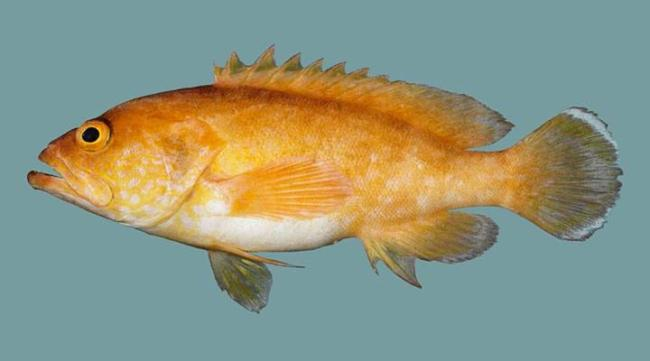fish: (27, 45, 624, 313)
